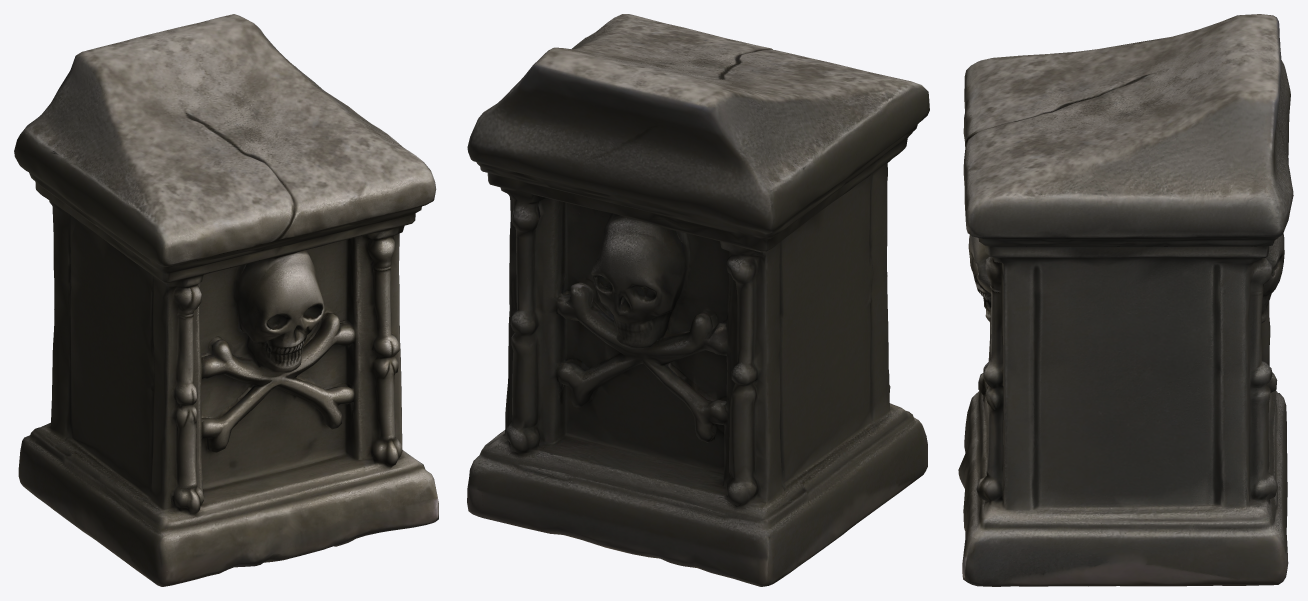
File: sarcophagus.glb
The picture shows the model from 3 angles, left to right: view 1: azimuth 30°, elevation 25°; view 2: azimuth 150°, elevation 25°; view 3: azimuth 270°, elevation 25°; orthographic projection. The views are drawn at different scales.
Bounding box in the file's own units: 1.38 × 2 × 1.31.
Materials: 1 (1 with a texture image).
